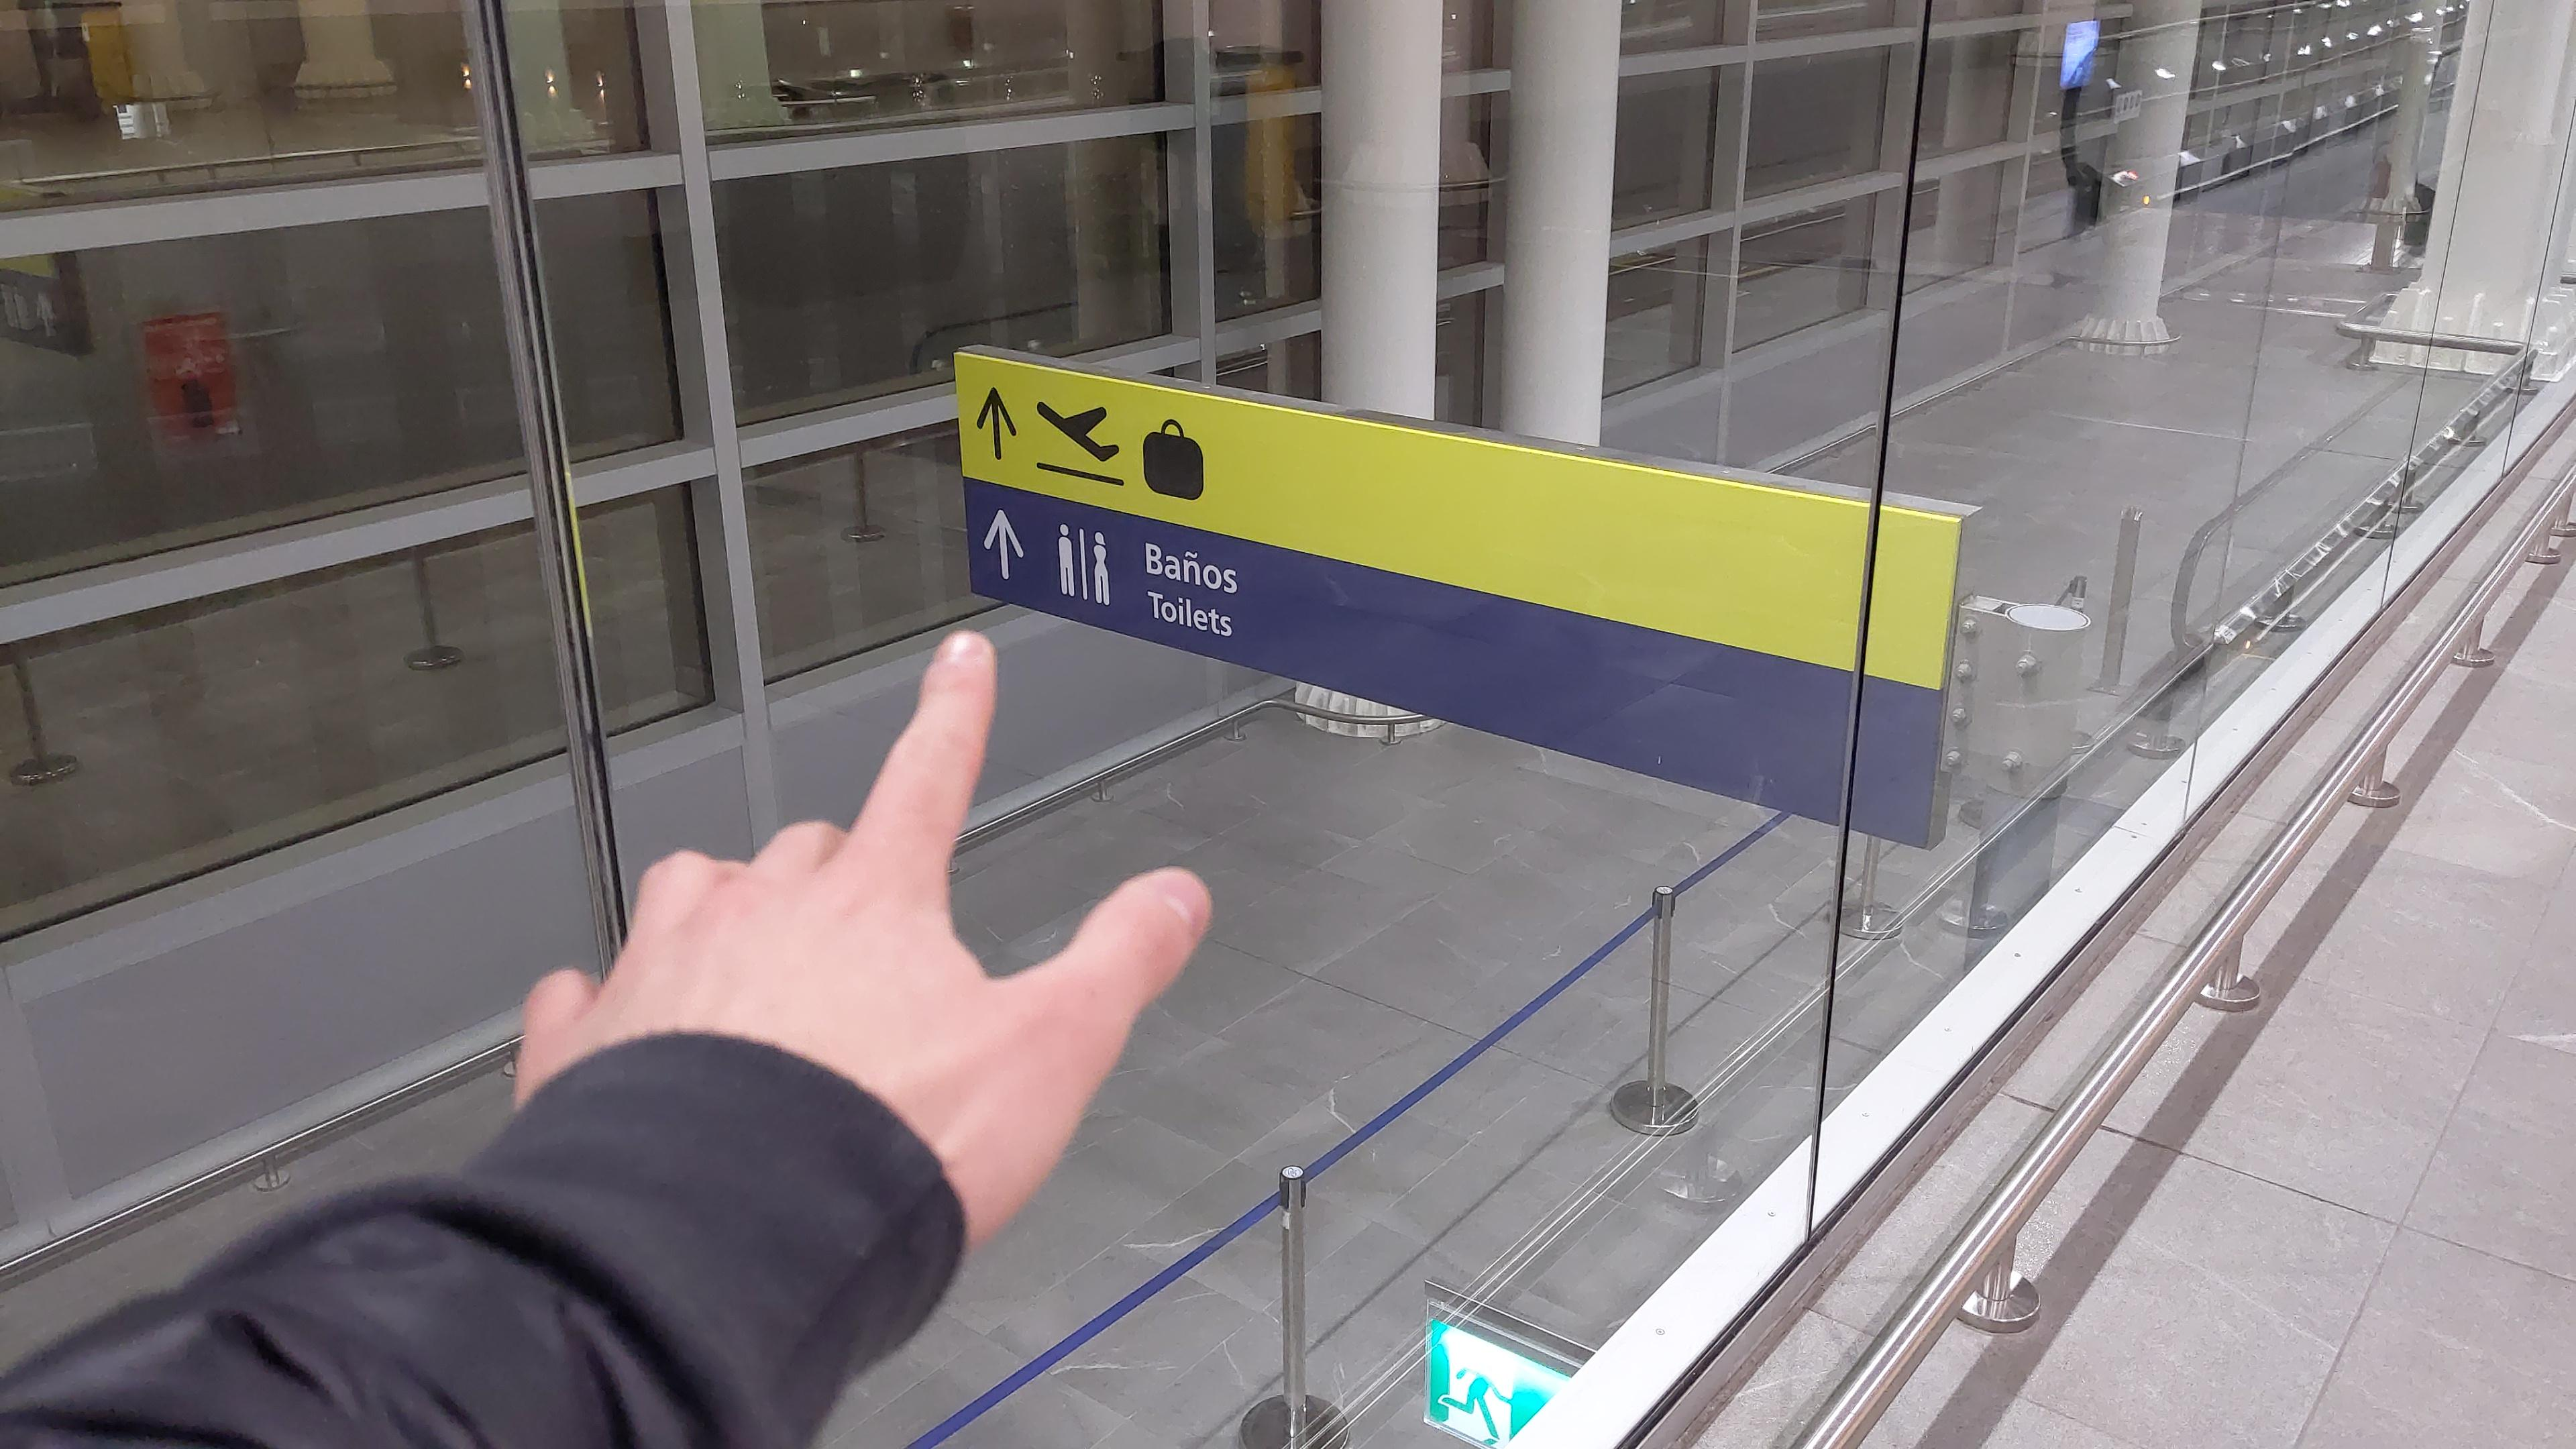airplane symbol: (1033, 396, 1123, 465)
baggage claim: (1139, 418, 1212, 502)
bathrooms: (1056, 520, 1116, 609)
thin up arrow: (980, 502, 1028, 587)
up arrow: (973, 384, 1021, 465)
